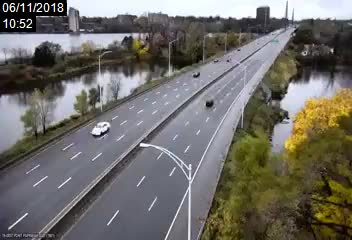personal_car: (90, 120, 111, 137), (204, 98, 215, 107), (191, 69, 200, 79), (225, 56, 233, 63), (212, 58, 220, 64)
